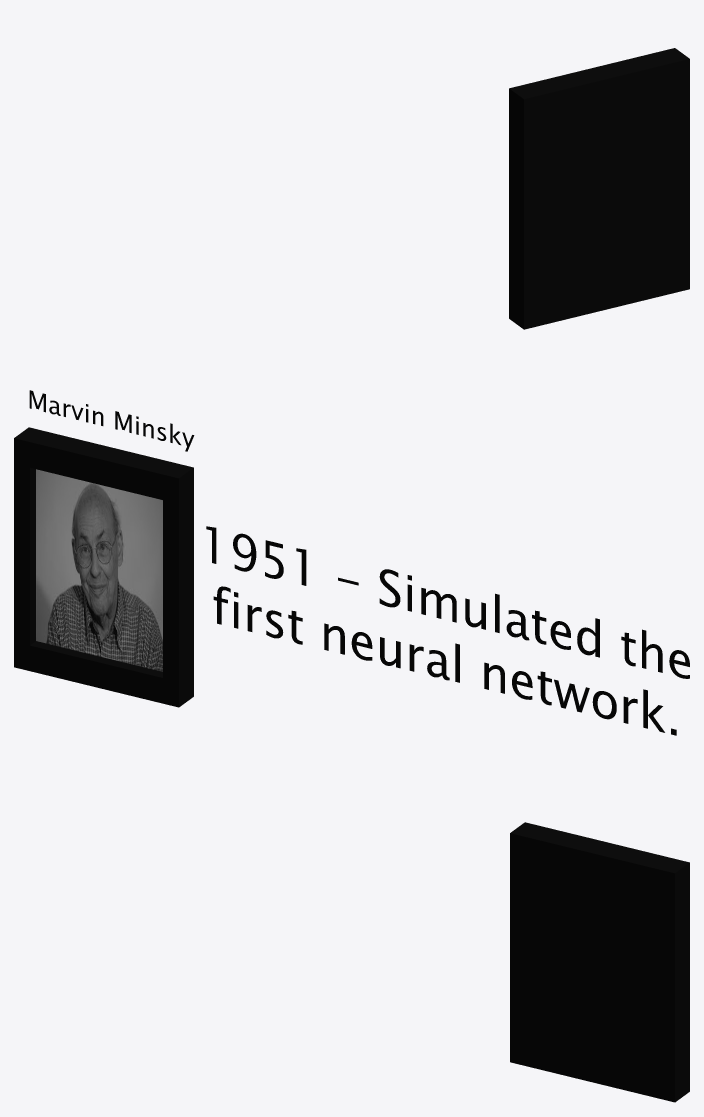
The picture shows the model from 3 angles, top to bottom: view 1: azimuth 30°, elevation 25°; view 2: azimuth 150°, elevation 25°; view 3: azimuth 330°, elevation 25°; orthographic projection.
Visible parts, largest first — view 1: typeMesh50; view 2: typeMesh50; view 3: typeMesh50.
Part boxes in pixels (x1=…): typeMesh50: x1=509, y1=48, x2=689, y2=329; typeMesh50: x1=14, y1=390, x2=689, y2=735; typeMesh50: x1=510, y1=822, x2=689, y2=1102.
Size of the model in its own units: 6.36 by 2.49 by 0.2465.
Materials: 3 (1 with a texture image).
